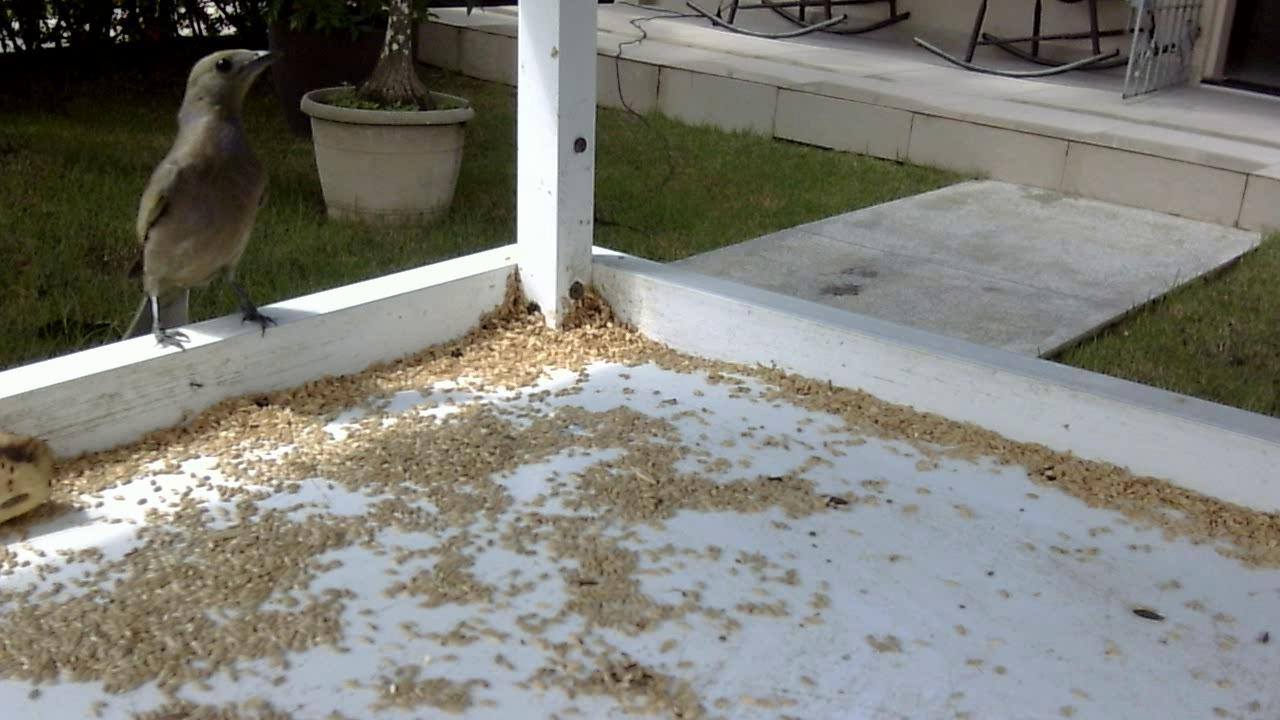sanhaco_do_coqueiro: (116, 53, 299, 359)
